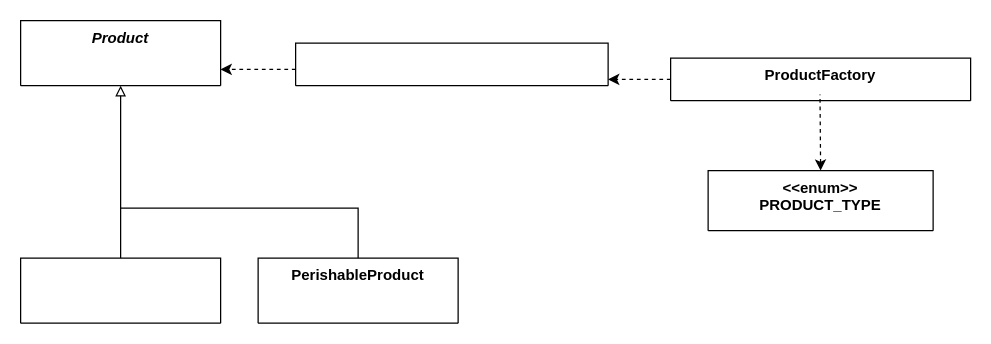
This 991x344 diagram has some shape labels left out. The centre of each missing label's shape, as x and y in pixels:
NonPerishableProduct: point 120,290
ProductBuilder: point 451,64
